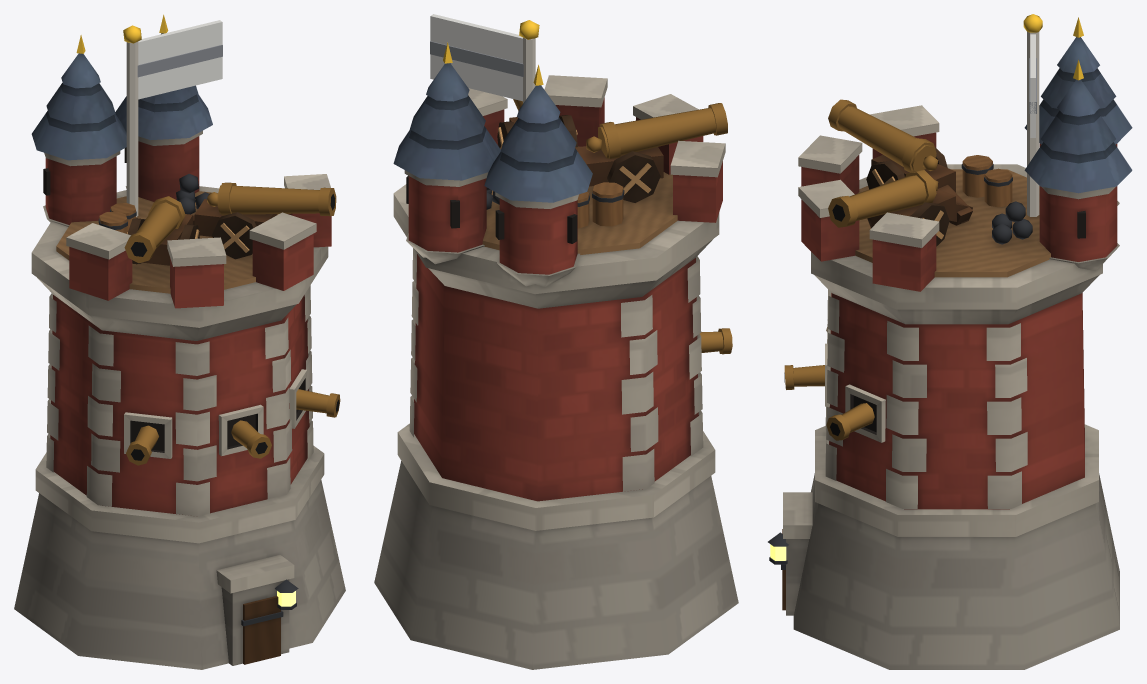
The model's file is tower_l4.glb.
3 views of the same model, side by side, from view 1: azimuth 30°, elevation 25°; view 2: azimuth 150°, elevation 25°; view 3: azimuth 270°, elevation 25° (orthographic). The views are drawn at different scales.
Parts seen in each view (by area): view 1: tower_l4; view 2: tower_l4; view 3: tower_l4.
Part boxes in pixels (bbox=[...]): tower_l4: bbox=[14, 14, 345, 669]; tower_l4: bbox=[374, 14, 738, 669]; tower_l4: bbox=[768, 14, 1132, 669].
Bounding box in the file's own units: 0.4712 × 0.926 × 0.5272.
2 materials, 1 textured.
